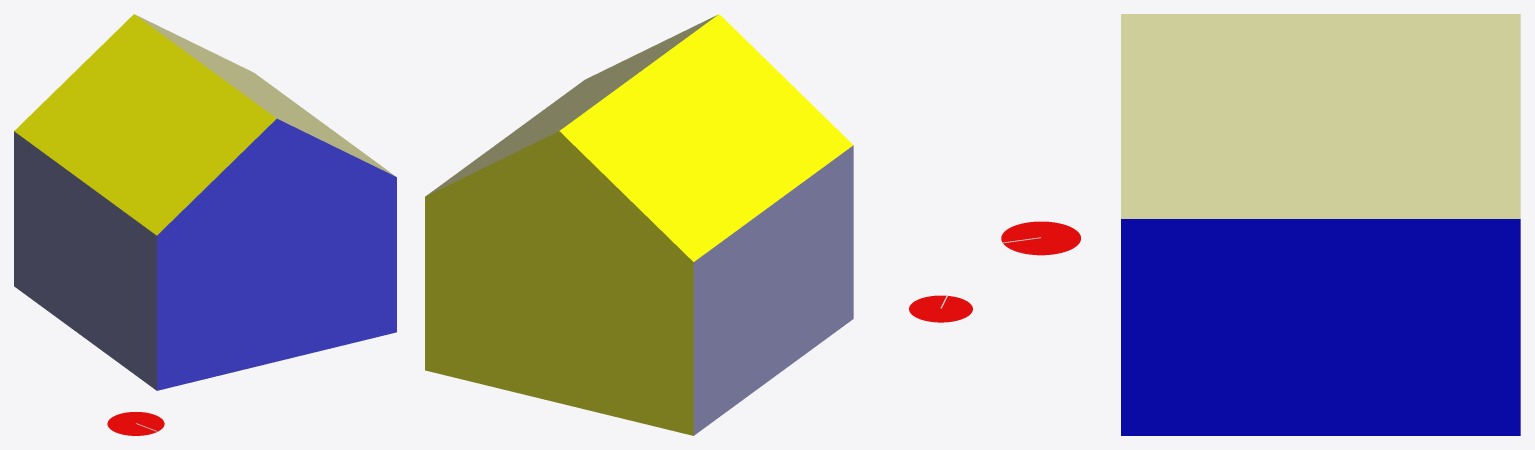
Rendered from result.glb.
3 views of the same model, side by side, from view 1: azimuth 30°, elevation 25°; view 2: azimuth 150°, elevation 25°; view 3: azimuth 270°, elevation 25° (orthographic). The views are drawn at different scales.
Visible parts, largest first — view 1: 827127c4-3879-4359-98e5-405cb1e8408a__undefined, 72485fb3-03fc-44da-9dee-6a0b27edbfac__undefined, 1db736e9-7029-42de-9935-9cecdf176c2b__undefined, e4d35baa-9bcc-44cb-bd2a-6ea3717349b7__undefined, 507a7612-4e69-4019-abe6-0b5667a81c8b__Circle; view 2: c175e188-5362-4cf6-8d96-771639d57ad3__undefined, 72485fb3-03fc-44da-9dee-6a0b27edbfac__undefined, 1db736e9-7029-42de-9935-9cecdf176c2b__undefined, e4d35baa-9bcc-44cb-bd2a-6ea3717349b7__undefined, 507a7612-4e69-4019-abe6-0b5667a81c8b__Circle; view 3: 5ba82e6c-e846-49cd-893a-3e0822c4dcb1__undefined, e4d35baa-9bcc-44cb-bd2a-6ea3717349b7__undefined, 507a7612-4e69-4019-abe6-0b5667a81c8b__Circle.
Part boxes in pixels (x1,y1,x2,y2): 827127c4-3879-4359-98e5-405cb1e8408a__undefined: (157,119,396,390); 72485fb3-03fc-44da-9dee-6a0b27edbfac__undefined: (14,14,276,235); 1db736e9-7029-42de-9935-9cecdf176c2b__undefined: (14,131,156,390); e4d35baa-9bcc-44cb-bd2a-6ea3717349b7__undefined: (136,15,395,176); 507a7612-4e69-4019-abe6-0b5667a81c8b__Circle: (107,412,164,435); c175e188-5362-4cf6-8d96-771639d57ad3__undefined: (425,131,693,435); 72485fb3-03fc-44da-9dee-6a0b27edbfac__undefined: (559,14,853,261); 1db736e9-7029-42de-9935-9cecdf176c2b__undefined: (693,145,853,435); e4d35baa-9bcc-44cb-bd2a-6ea3717349b7__undefined: (426,15,717,195); 507a7612-4e69-4019-abe6-0b5667a81c8b__Circle: (909,295,972,322); 5ba82e6c-e846-49cd-893a-3e0822c4dcb1__undefined: (1121,219,1520,435); e4d35baa-9bcc-44cb-bd2a-6ea3717349b7__undefined: (1121,14,1520,218); 507a7612-4e69-4019-abe6-0b5667a81c8b__Circle: (1001,221,1080,255).
Bounding box in the file's own units: 635 × 469 × 650.
